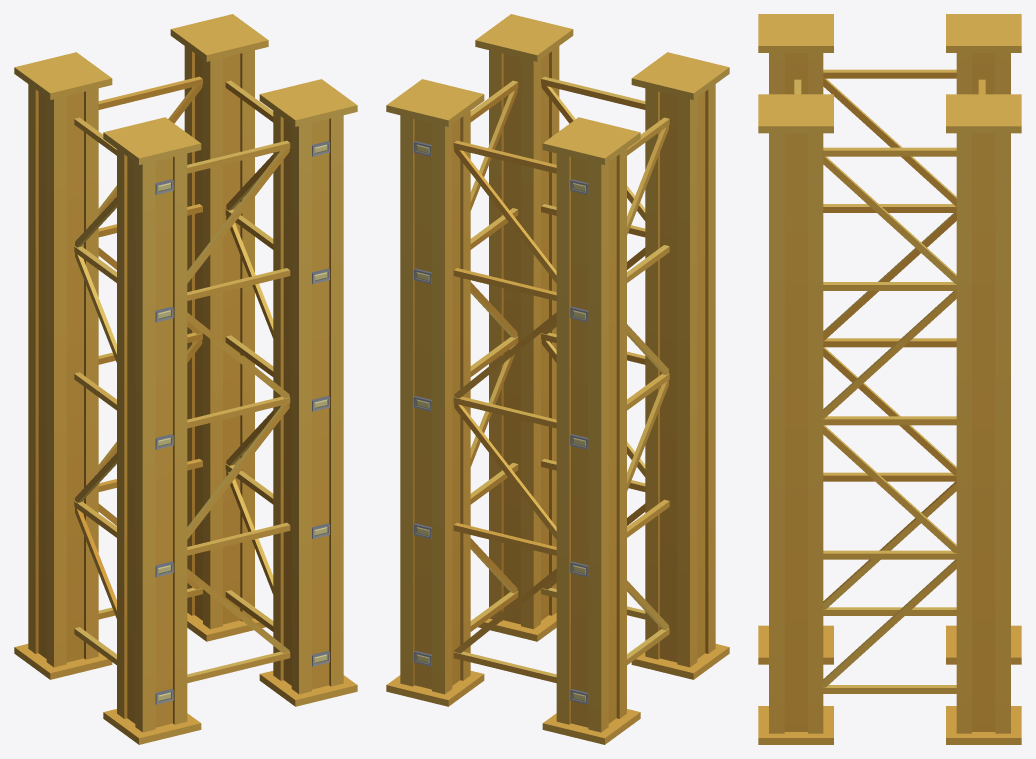
Rendered from squidgame_props_tower3.fbx.
The picture shows the model from 3 angles, left to right: view 1: azimuth 30°, elevation 25°; view 2: azimuth 150°, elevation 25°; view 3: azimuth 270°, elevation 25°; orthographic projection. The views are drawn at different scales.
Visible parts, largest first — view 1: squidgame_props_tower3, squidgame_props_tower3_light; view 2: squidgame_props_tower3, squidgame_props_tower3_light; view 3: squidgame_props_tower3.
Boxes of the visible parts, box(x1,y1,x2,y2) form: squidgame_props_tower3: box(14, 14, 357, 744); squidgame_props_tower3_light: box(158, 144, 327, 701); squidgame_props_tower3: box(386, 14, 729, 744); squidgame_props_tower3_light: box(416, 144, 585, 701); squidgame_props_tower3: box(758, 14, 1021, 744).
Size of the model in its own units: 2.38 by 6.11 by 2.36.
